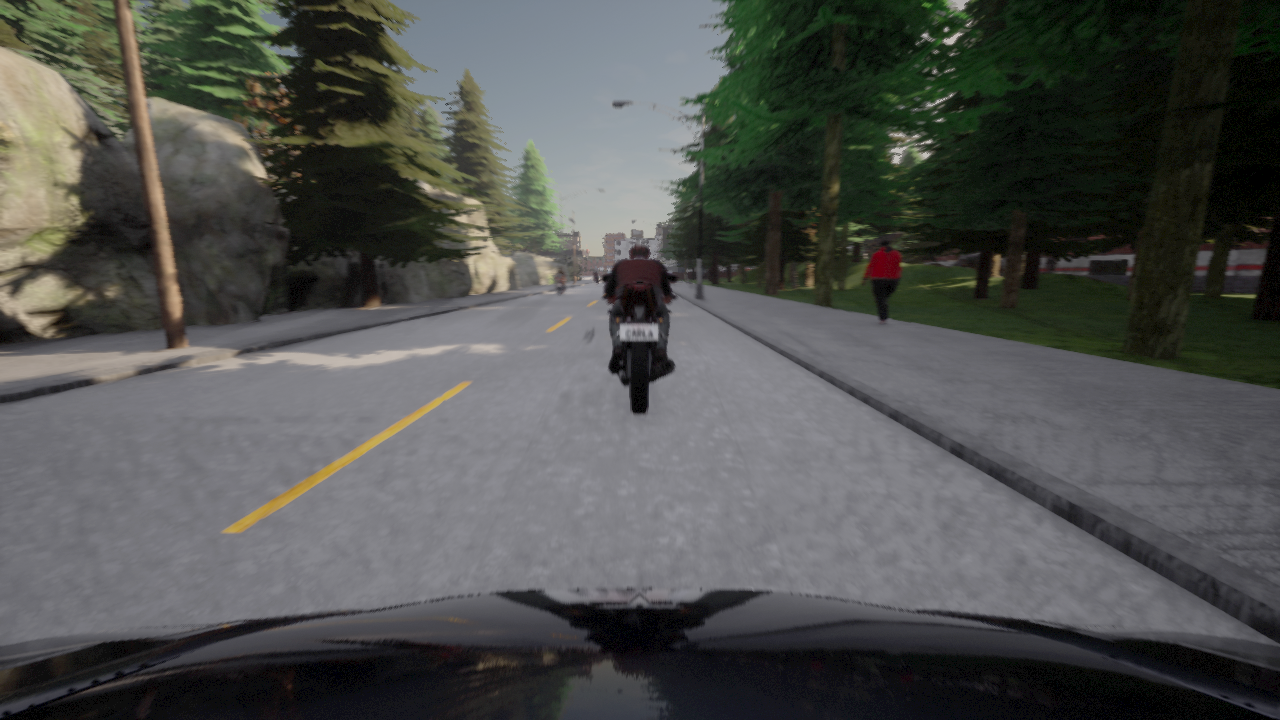cyclist: (0, 588, 1279, 719), (601, 274, 678, 414), (554, 274, 565, 296), (596, 278, 598, 285), (668, 272, 672, 273)
pedestrian: (862, 240, 900, 324), (700, 268, 704, 283), (560, 266, 561, 267)
